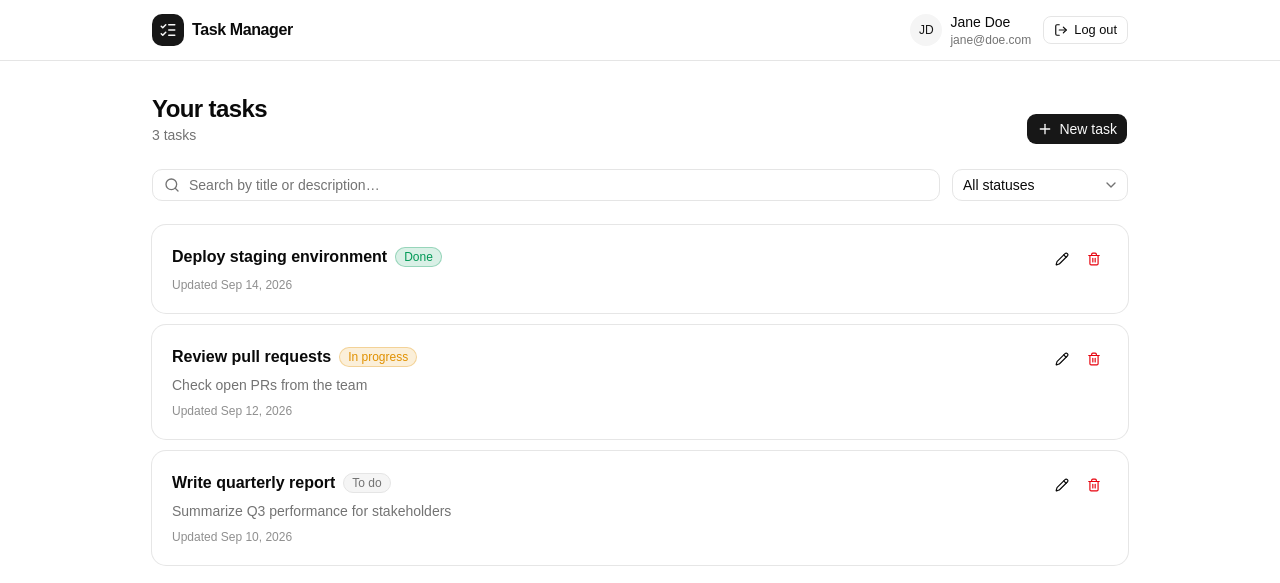
Test case: DashboardPage › filters tasks by search text against title or description
Check: the heading "Write quarterly report" is shown, box x1=172 y1=471 x2=335 y2=495
Type "pull requests" into the field named "search tasks".
click(546, 185); type("pull requests")  # box x1=152 y1=169 x2=940 y2=201
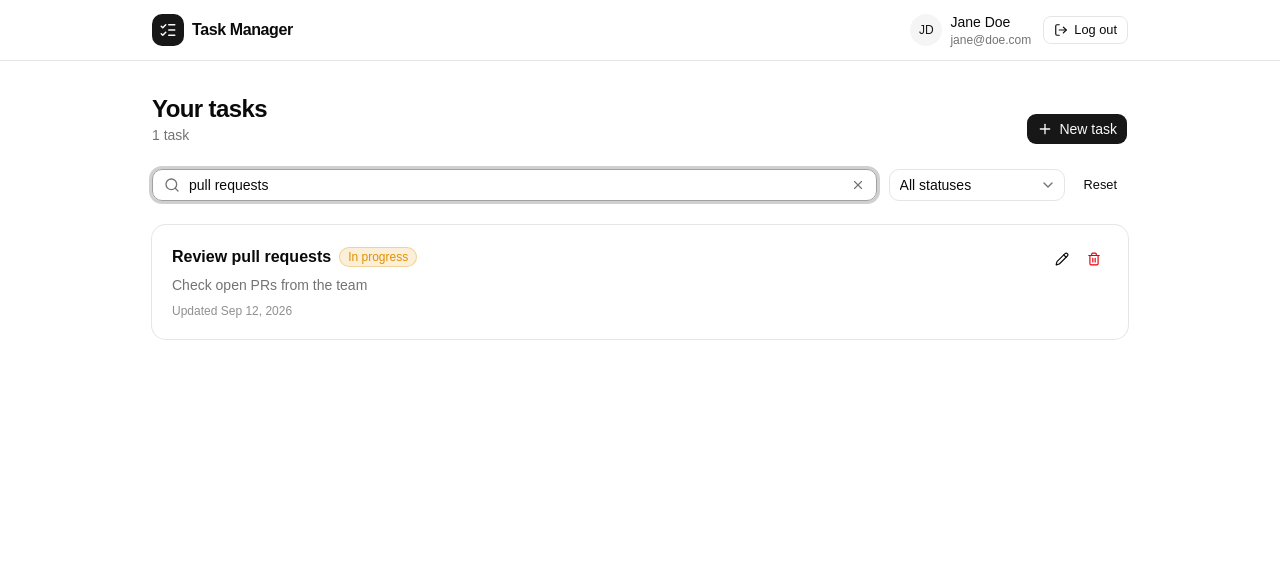
Check: the heading "Review pull requests" is shown, box x1=172 y1=245 x2=331 y2=269
Check: the heading "Write quarterly report" is gone
Check: the heading "Deploy staging environment" is gone
